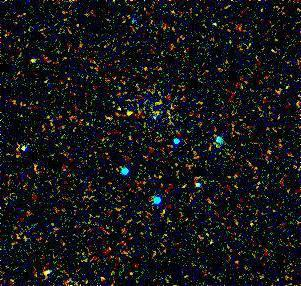star: (114, 97, 144, 127)
